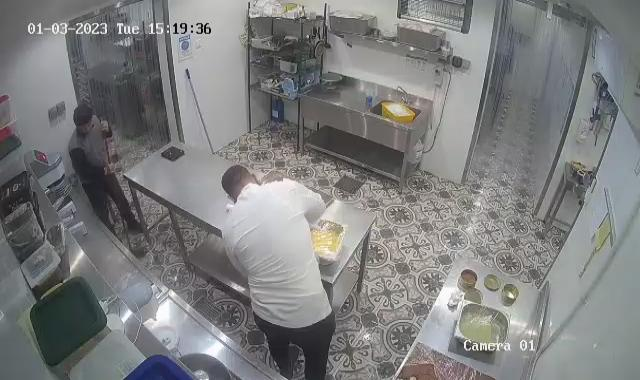no_hairnet: (217, 163, 260, 199), (71, 104, 95, 130)
